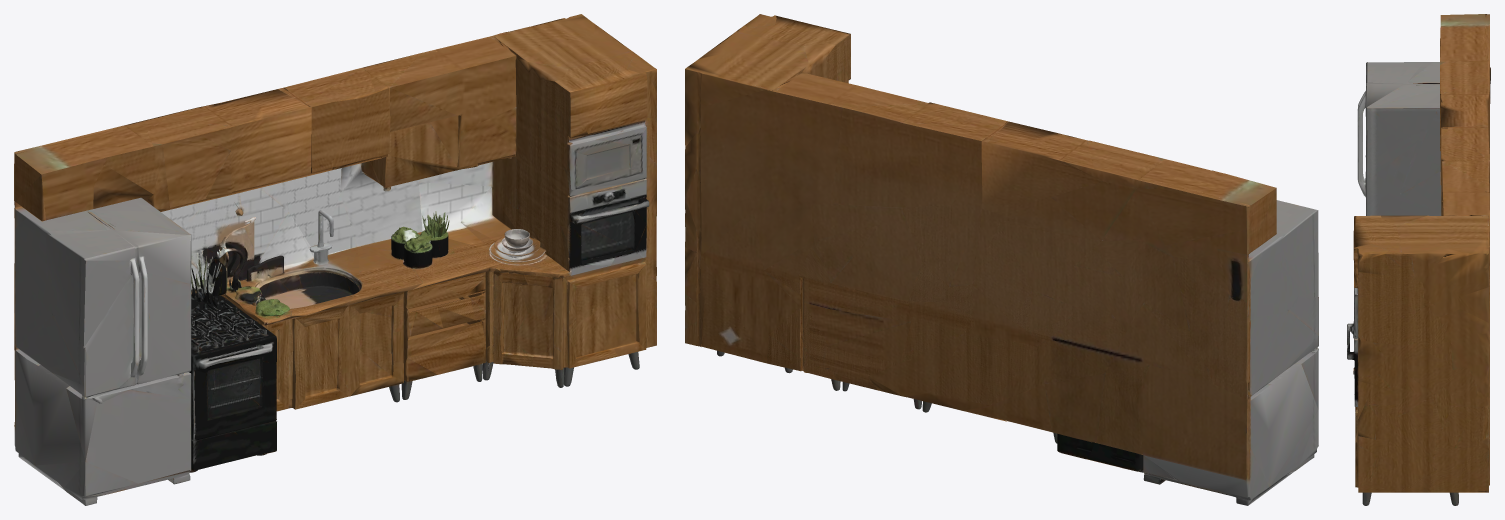
Rendered from cozinha_armario_leve2.glb.
3 renders of one model, left to right at view 1: azimuth 30°, elevation 25°; view 2: azimuth 150°, elevation 25°; view 3: azimuth 270°, elevation 25°, orthographic. The views are drawn at different scales.
Visible parts, largest first — view 1: Mesh_0; view 2: Mesh_0; view 3: Mesh_0.
Part boxes in pixels (x1,y1,x2,y2): Mesh_0: (14,14,656,505); Mesh_0: (685,14,1318,505); Mesh_0: (1347,14,1490,505).
Size of the model in its own units: 1.9 by 0.9731 by 0.4817.
1 material, 1 textured.
